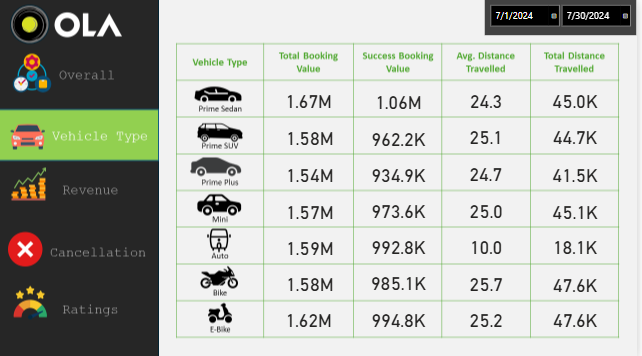

This screenshot's page, from the dashboard's own definition file:
{"tool":"powerbi","page":{"name":"vehicle type","canvas":[1280,720],"ordinal":1},"visuals":[{"type":"actionButton","box":[0,343.3,315,76.7],"z":0},{"type":"actionButton","box":[0,463.3,315,76.7],"z":1000},{"type":"actionButton","box":[0,576.7,315,76.7],"z":2000},{"type":"actionButton","box":[0,106.7,315,86.7],"z":3000},{"type":"card","fields":{"Values":["Sum(July.Booking_Value)"]},"box":[538.8,236.2,171.2,75],"z":4000},{"type":"card","fields":{"Values":["Sum(July.Booking_Value)"]},"box":[538,168,172,64],"z":5000},{"type":"card","fields":{"Values":["Sum(July.Booking_Value)"]},"box":[538.8,315,171.2,65],"z":6000},{"type":"card","fields":{"Values":["Sum(July.Booking_Value)"]},"box":[538.8,388.8,171.2,63.8],"z":7000},{"type":"card","fields":{"Values":["Sum(July.Booking_Value)"]},"box":[538.8,461.2,171.2,63.8],"z":8000},{"type":"card","fields":{"Values":["Sum(July.Booking_Value)"]},"box":[538.8,530,171.2,71.2],"z":9000},{"type":"card","fields":{"Values":["Sum(July.Booking_Value)"]},"box":[538,606,172,68],"z":10000},{"type":"card","fields":{"Values":["Sum(July.Booking_Value)"]},"box":[720,168,166,70],"z":11000},{"type":"card","fields":{"Values":["Sum(July.Booking_Value)"]},"box":[720,241.4,165.7,65.7],"z":12000},{"type":"card","fields":{"Values":["Sum(July.Booking_Value)"]},"box":[720,315.7,165.7,65.7],"z":13000},{"type":"card","fields":{"Values":["Sum(July.Booking_Value)"]},"box":[720,388.6,165.7,64.3],"z":14000},{"type":"card","fields":{"Values":["Sum(July.Booking_Value)"]},"box":[720,454.3,165.7,72.9],"z":15000},{"type":"card","fields":{"Values":["Sum(July.Booking_Value)"]},"box":[720,532.9,165.7,64.3],"z":16000},{"type":"card","fields":{"Values":["Sum(July.Booking_Value)"]},"box":[720,605.7,165.7,67.1],"z":17000},{"type":"card","fields":{"Values":["Avg(July.Ride_Distance)"]},"box":[891.4,167.1,171.4,64.3],"z":18000},{"type":"card","fields":{"Values":["Avg(July.Ride_Distance)"]},"box":[891.4,234.3,171.4,72.9],"z":19000},{"type":"card","fields":{"Values":["Avg(July.Ride_Distance)"]},"box":[892,312,170,68],"z":20000},{"type":"card","fields":{"Values":["Avg(July.Ride_Distance)"]},"box":[891.4,387.1,171.4,64.3],"z":21000},{"type":"card","fields":{"Values":["Avg(July.Ride_Distance)"]},"box":[891.4,460,171.4,65.7],"z":22000},{"type":"card","fields":{"Values":["Avg(July.Ride_Distance)"]},"box":[891.4,531.4,171.4,65.7],"z":23000},{"type":"card","fields":{"Values":["Avg(July.Ride_Distance)"]},"box":[891.4,605.7,171.4,67.1],"z":24000},{"type":"card","fields":{"Values":["Sum(July.Ride_Distance)"]},"box":[1072.9,167.1,167.1,65.7],"z":25000},{"type":"card","fields":{"Values":["Sum(July.Ride_Distance)"]},"box":[1072.5,236.2,167.5,71.2],"z":26000},{"type":"card","fields":{"Values":["Sum(July.Ride_Distance)"]},"box":[1072.5,313.8,167.5,65],"z":27000},{"type":"card","fields":{"Values":["Sum(July.Ride_Distance)"]},"box":[1072.5,388.8,167.5,65],"z":28000},{"type":"card","fields":{"Values":["Sum(July.Ride_Distance)"]},"box":[1072.5,460,167.5,65],"z":29000},{"type":"card","fields":{"Values":["Sum(July.Ride_Distance)"]},"box":[1072.5,533.8,167.5,65],"z":30000},{"type":"card","fields":{"Values":["Sum(July.Ride_Distance)"]},"box":[1072,606,168,68],"z":31000},{"type":"slicer","title":"Date","fields":{"Values":["July.Date"]},"box":[976,0,304,70],"z":32000}]}

Visuals, with their boxes on the page's 1280x720 design canvas (x1, y1, x2, y2). These are canvas units, not pixel positions in the 642x356 screenshot, which may show the page scaled, cropped or inside an application window:
actionButton: crop(0, 343, 315, 420)
actionButton: crop(0, 463, 315, 540)
actionButton: crop(0, 577, 315, 653)
actionButton: crop(0, 107, 315, 193)
card - Sum(July.Booking_Value): crop(539, 236, 710, 311)
card - Sum(July.Booking_Value): crop(538, 168, 710, 232)
card - Sum(July.Booking_Value): crop(539, 315, 710, 380)
card - Sum(July.Booking_Value): crop(539, 389, 710, 453)
card - Sum(July.Booking_Value): crop(539, 461, 710, 525)
card - Sum(July.Booking_Value): crop(539, 530, 710, 601)
card - Sum(July.Booking_Value): crop(538, 606, 710, 674)
card - Sum(July.Booking_Value): crop(720, 168, 886, 238)
card - Sum(July.Booking_Value): crop(720, 241, 886, 307)
card - Sum(July.Booking_Value): crop(720, 316, 886, 381)
card - Sum(July.Booking_Value): crop(720, 389, 886, 453)
card - Sum(July.Booking_Value): crop(720, 454, 886, 527)
card - Sum(July.Booking_Value): crop(720, 533, 886, 597)
card - Sum(July.Booking_Value): crop(720, 606, 886, 673)
card - Avg(July.Ride_Distance): crop(891, 167, 1063, 231)
card - Avg(July.Ride_Distance): crop(891, 234, 1063, 307)
card - Avg(July.Ride_Distance): crop(892, 312, 1062, 380)
card - Avg(July.Ride_Distance): crop(891, 387, 1063, 451)
card - Avg(July.Ride_Distance): crop(891, 460, 1063, 526)
card - Avg(July.Ride_Distance): crop(891, 531, 1063, 597)
card - Avg(July.Ride_Distance): crop(891, 606, 1063, 673)
card - Sum(July.Ride_Distance): crop(1073, 167, 1240, 233)
card - Sum(July.Ride_Distance): crop(1072, 236, 1240, 307)
card - Sum(July.Ride_Distance): crop(1072, 314, 1240, 379)
card - Sum(July.Ride_Distance): crop(1072, 389, 1240, 454)
card - Sum(July.Ride_Distance): crop(1072, 460, 1240, 525)
card - Sum(July.Ride_Distance): crop(1072, 534, 1240, 599)
card - Sum(July.Ride_Distance): crop(1072, 606, 1240, 674)
"Date" slicer: crop(976, 0, 1280, 70)
